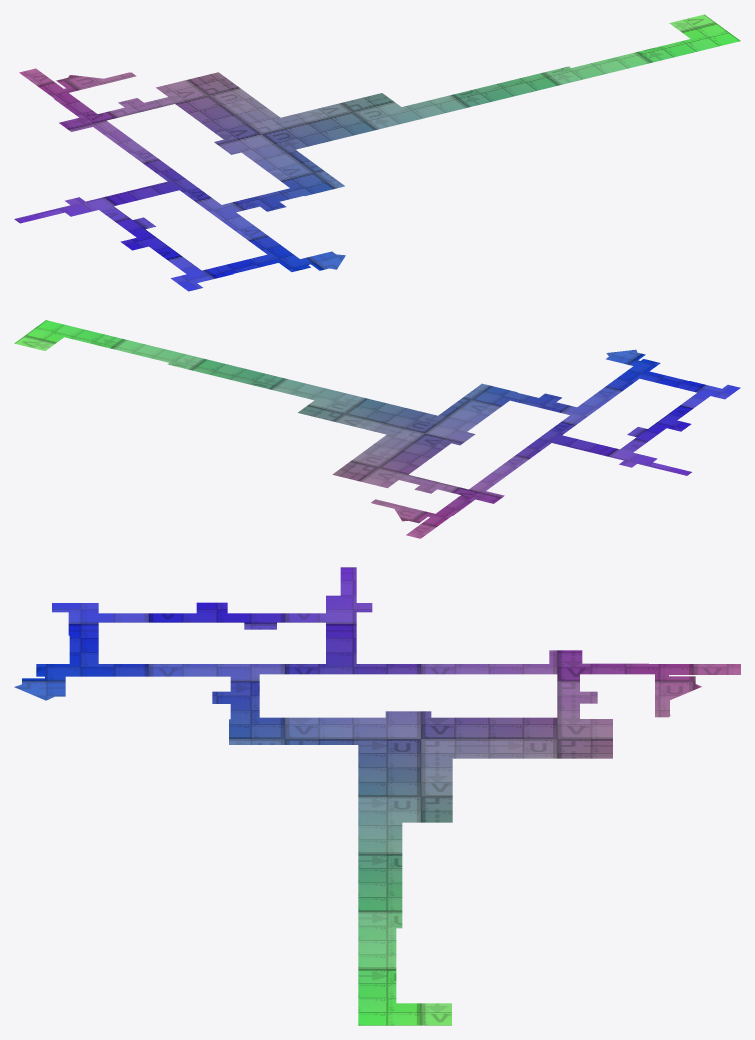
Rendered from Floor6Floor.fbx.
3 views of the same model, one above another, from view 1: azimuth 30°, elevation 25°; view 2: azimuth 150°, elevation 25°; view 3: azimuth 270°, elevation 25° (orthographic). The views are drawn at different scales.
Visible parts, largest first — view 1: Floor6Floor; view 2: Floor6Floor; view 3: Floor6Floor.
Boxes of the visible parts, box(x1,y1,x2,y2) form: Floor6Floor: box(14, 14, 740, 291); Floor6Floor: box(14, 320, 740, 538); Floor6Floor: box(14, 567, 740, 1025).
Size of the model in its own units: 3822 by 0.000243 by 2561.
